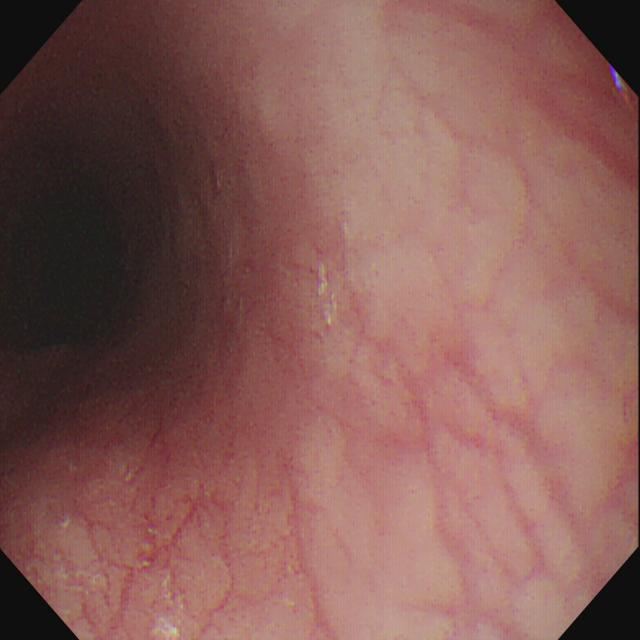A: (103, 475, 200, 574)
E: (48, 233, 118, 330)
J: (151, 578, 186, 640)
